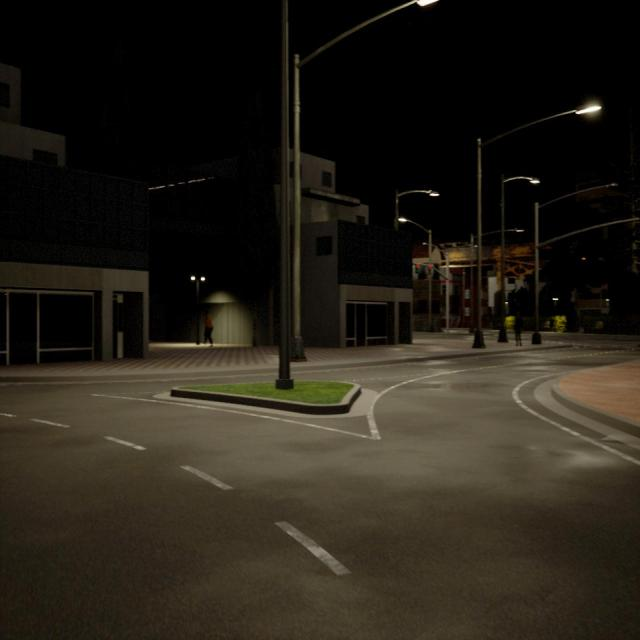Pedestrian: (204, 310, 213, 346), (515, 313, 522, 346)
traffic_light: (428, 266, 432, 275), (416, 264, 418, 274)
